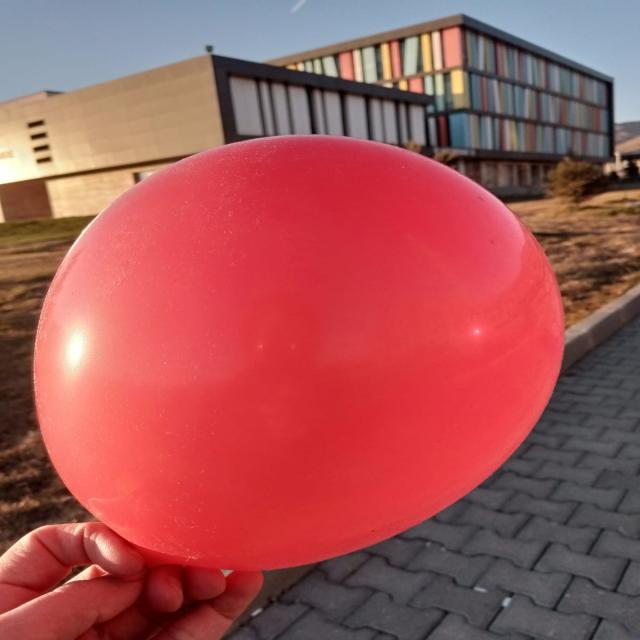balloon: (35, 135, 564, 570)
